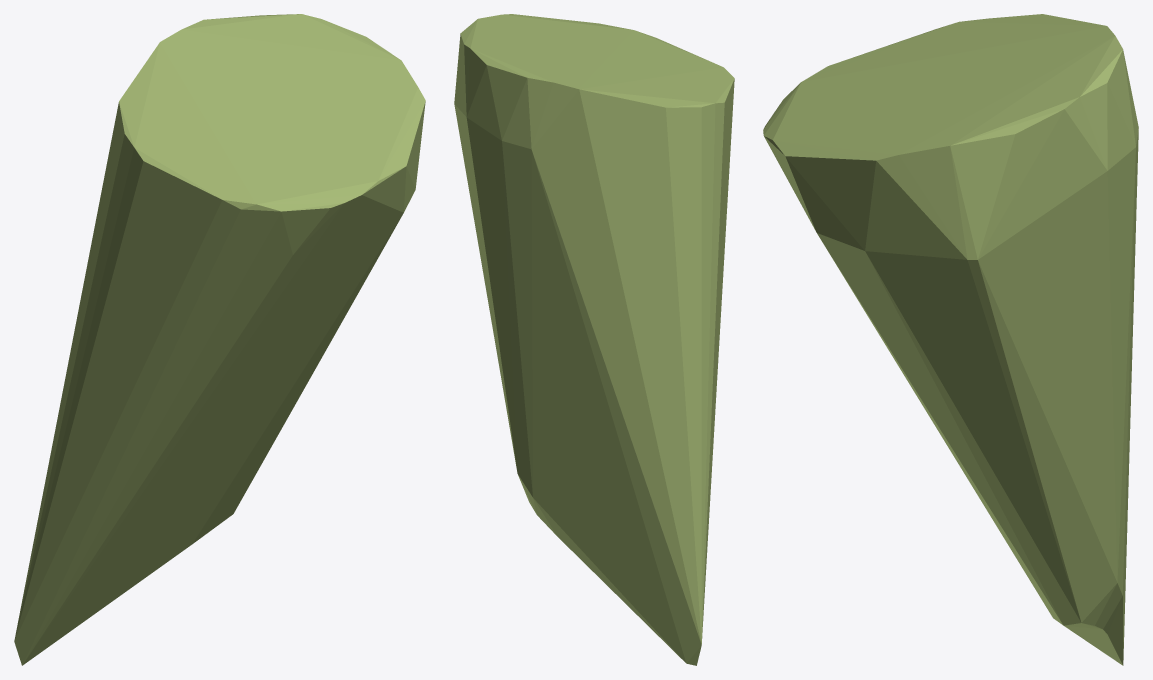
File: serviceTool_funnel_flexibleSpout_a01.glb
3 renders of one model, left to right at view 1: azimuth 30°, elevation 25°; view 2: azimuth 150°, elevation 25°; view 3: azimuth 270°, elevation 25°, orthographic. The views are drawn at different scales.
Parts seen in each view (by area): view 1: geometry_0; view 2: geometry_0; view 3: geometry_0.
Boxes of the visible parts, x1,y1,x2,y2 form: geometry_0: [14, 14, 425, 665]; geometry_0: [454, 14, 734, 665]; geometry_0: [763, 14, 1138, 665].
Bounding box in the file's own units: 0.2753 × 0.4776 × 0.2256.
